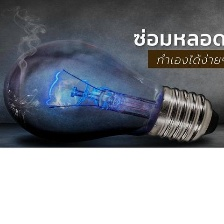light_bulb: (0, 35, 222, 147)
